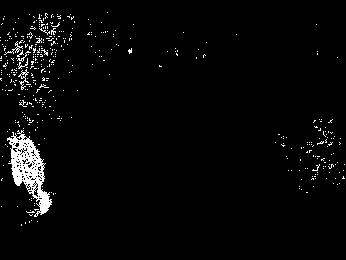person: (8, 132, 52, 216)
